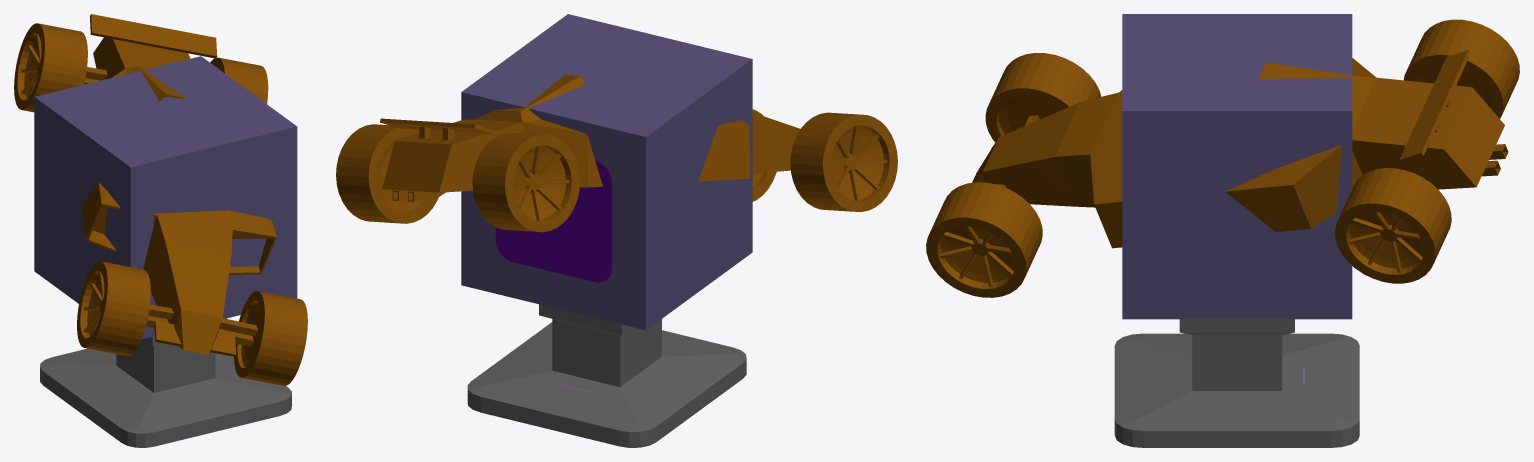
Rendered from statues.glb.
3 views of the same model, side by side, from view 1: azimuth 30°, elevation 25°; view 2: azimuth 150°, elevation 25°; view 3: azimuth 270°, elevation 25° (orthographic). The views are drawn at different scales.
Parts seen in each view (by area): view 1: PolyCarStatueBronze, KodubStatue; view 2: PolyCarStatueBronze, KodubStatue; view 3: PolyCarStatueBronze, KodubStatue.
Part boxes in pixels (x1,y1,x2,y2): PolyCarStatueBronze: [14, 14, 307, 447]; KodubStatue: [34, 56, 297, 338]; PolyCarStatueBronze: [336, 74, 897, 447]; KodubStatue: [461, 14, 752, 330]; PolyCarStatueBronze: [926, 19, 1519, 447]; KodubStatue: [1122, 14, 1352, 319].
Size of the model in its own units: 12.17 by 10.68 by 15.81.
